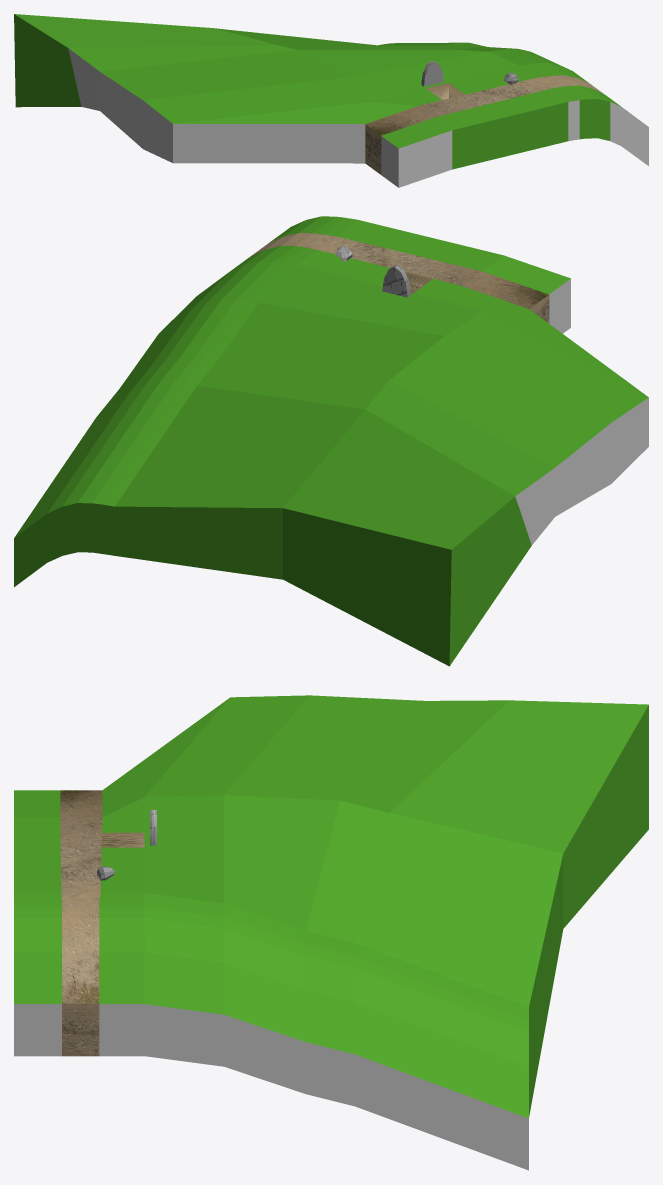
Rendered from graveyard.fbx.
3 renders of one model, top to bottom at view 1: azimuth 30°, elevation 25°; view 2: azimuth 150°, elevation 25°; view 3: azimuth 270°, elevation 25°, orthographic. The views are drawn at different scales.
Parts seen in each view (by area): view 1: Mesh, Mesh (2); view 2: Mesh, Mesh (2); view 3: Mesh.
Part boxes in pixels (x1=…): Mesh: x1=14, y1=14, x2=648, y2=187; Mesh (2): x1=421, y1=60, x2=443, y2=86; Mesh: x1=14, y1=216, x2=648, y2=666; Mesh (2): x1=382, y1=265, x2=410, y2=297; Mesh: x1=14, y1=695, x2=648, y2=1170.
Size of the model in its own units: 18590 by 8670 by 19570.
5 materials, 4 textured.
